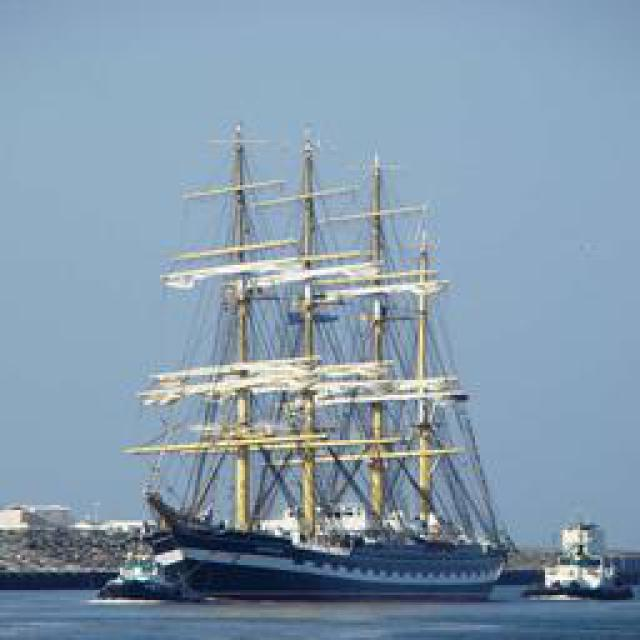Ship: (113, 116, 511, 601)
